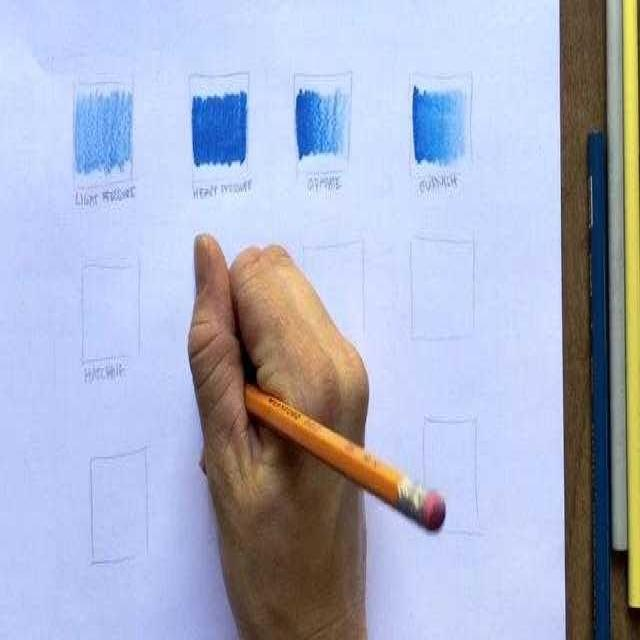pencil: (218, 346, 465, 557)
